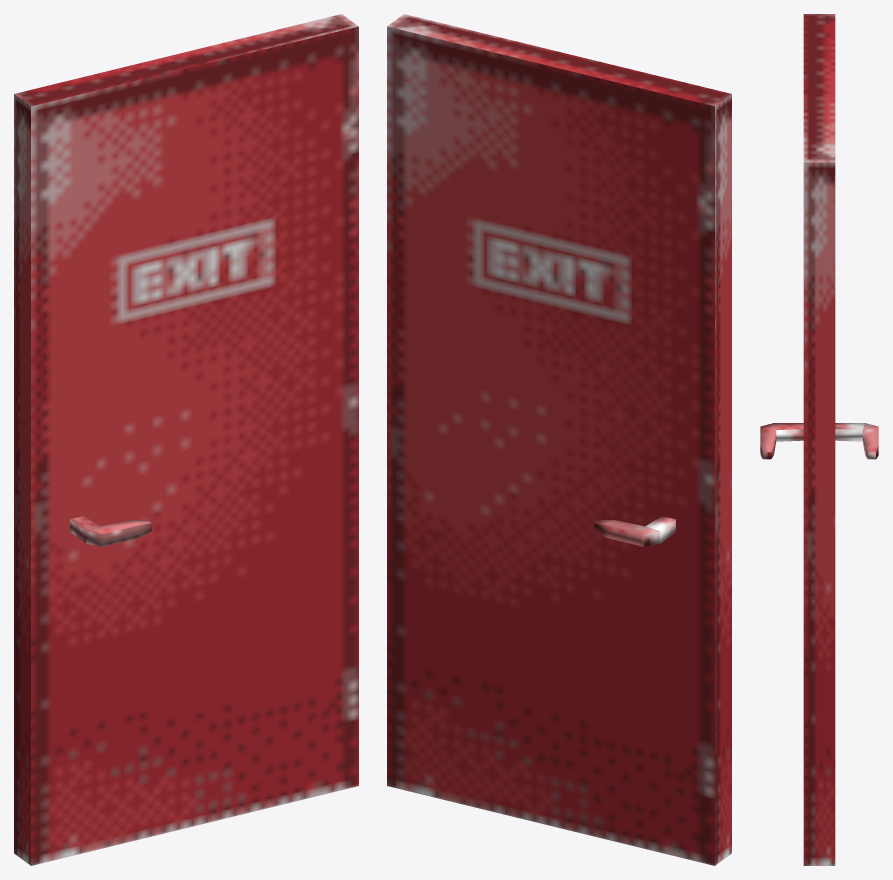
File: Exit_door.fbx
The picture shows the model from 3 angles, left to right: view 1: azimuth 30°, elevation 25°; view 2: azimuth 150°, elevation 25°; view 3: azimuth 270°, elevation 25°; orthographic projection. The views are drawn at different scales.
Visible parts, largest first — view 1: Cube.003, Cube.004; view 2: Cube.003, Cube.004; view 3: Cube.003, Cube.004.
Boxes of the visible parts, x1=… form: Cube.003: x1=14, y1=14, x2=358, y2=865; Cube.004: x1=70, y1=516, x2=151, y2=546; Cube.003: x1=387, y1=14, x2=731, y2=865; Cube.004: x1=594, y1=516, x2=675, y2=546; Cube.003: x1=803, y1=14, x2=835, y2=865; Cube.004: x1=760, y1=423, x2=878, y2=459.
Bounding box in the file's own units: 169 × 373 × 56.92.
1 material, 1 textured.
